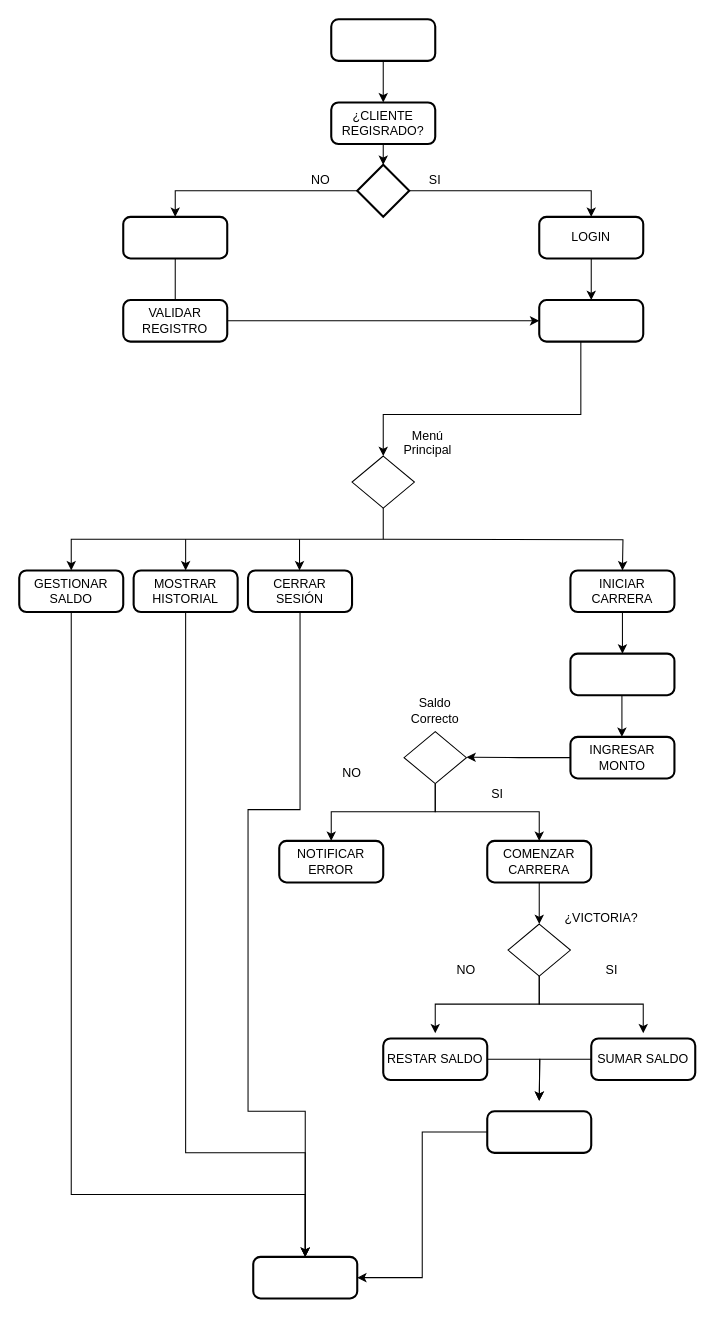
The diagram is 713 pixels wide and 1317 high, and some of its shapes have lost their labels. Each missing label, with the box of its shape:
ACTUALIZAR HISTORIAL: (486, 1110, 592, 1153)
INICIAR SESIÓN: (538, 298, 644, 342)
INICIO: (330, 18, 436, 61)
REGISTRAR USUARIO: (122, 215, 228, 259)
SELECCIONAR CABALLO: (569, 652, 675, 696)
VOLVER AL MENÚ: (252, 1255, 358, 1299)
